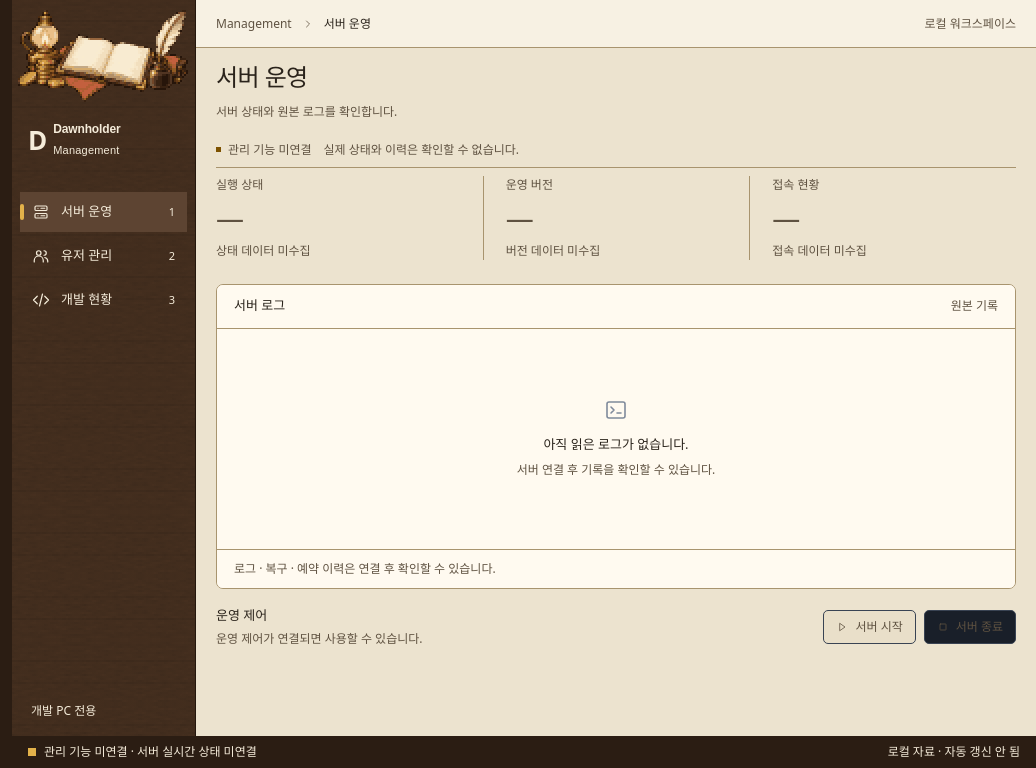
missing bridge › reports missing runtime authority instead of claiming that records loaded
Click the button "3 개발 현황": (104, 300) x1=20 y1=280 x2=187 y2=320
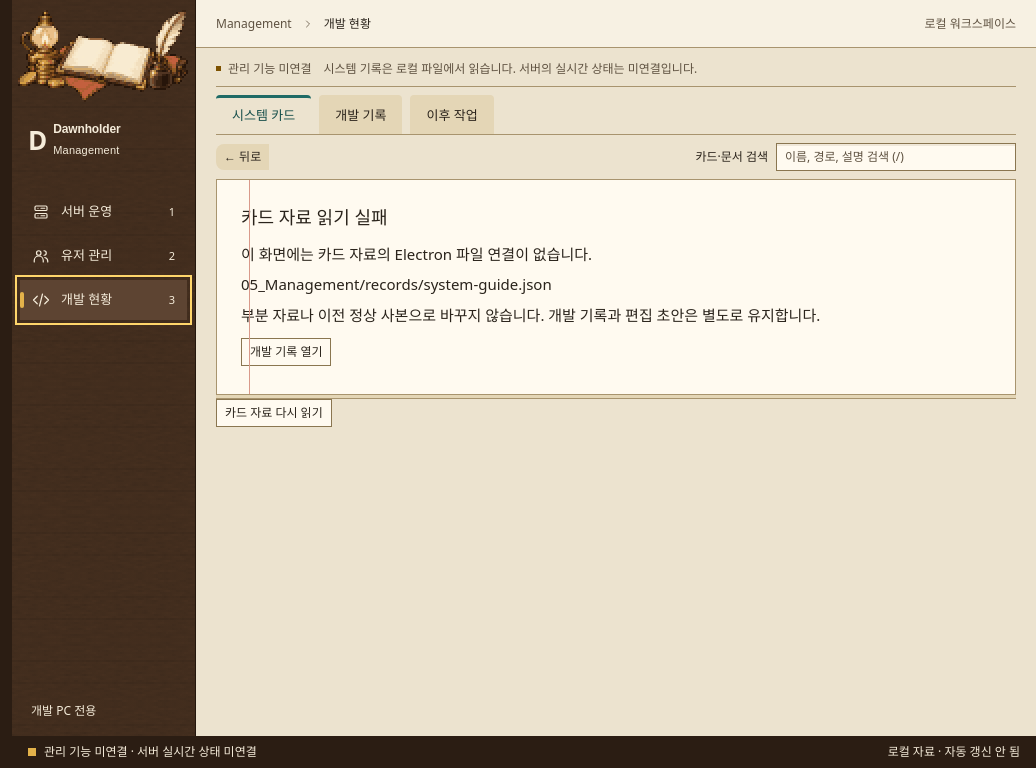
Click the button "개발 기록": (361, 114) x1=319 y1=95 x2=402 y2=134
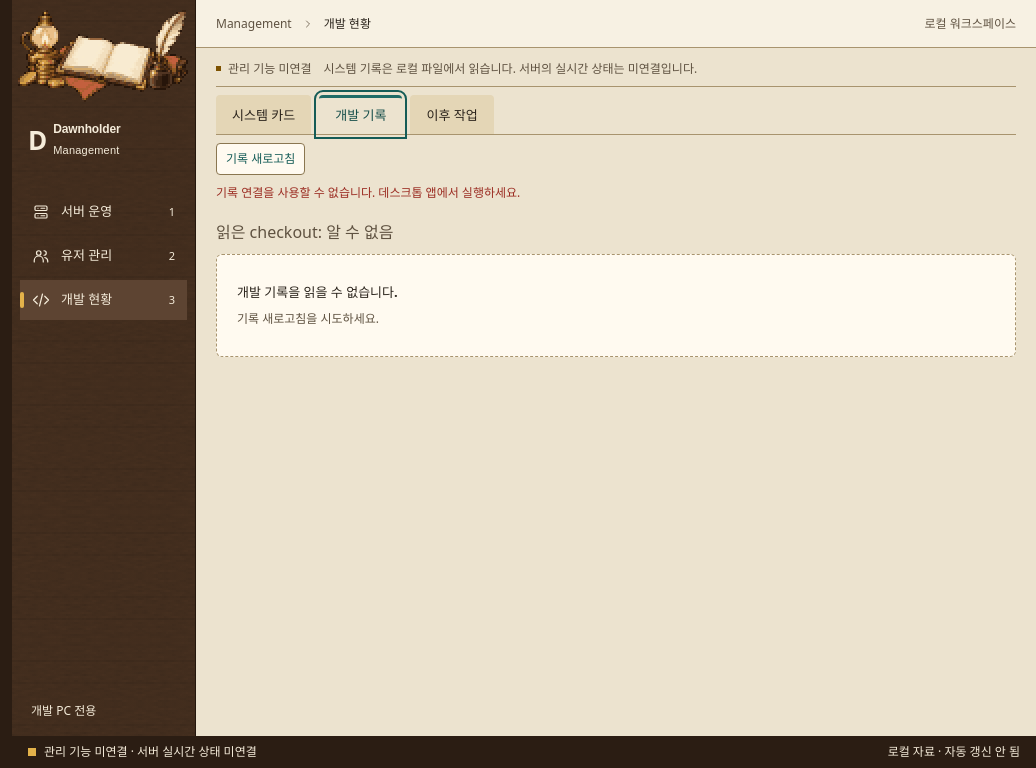
Check: the text "기록 연결을 사용할 수 없습니다. 데스크톱 앱에서 실행하세요." is shown, box x1=216 y1=184 x2=520 y2=200
